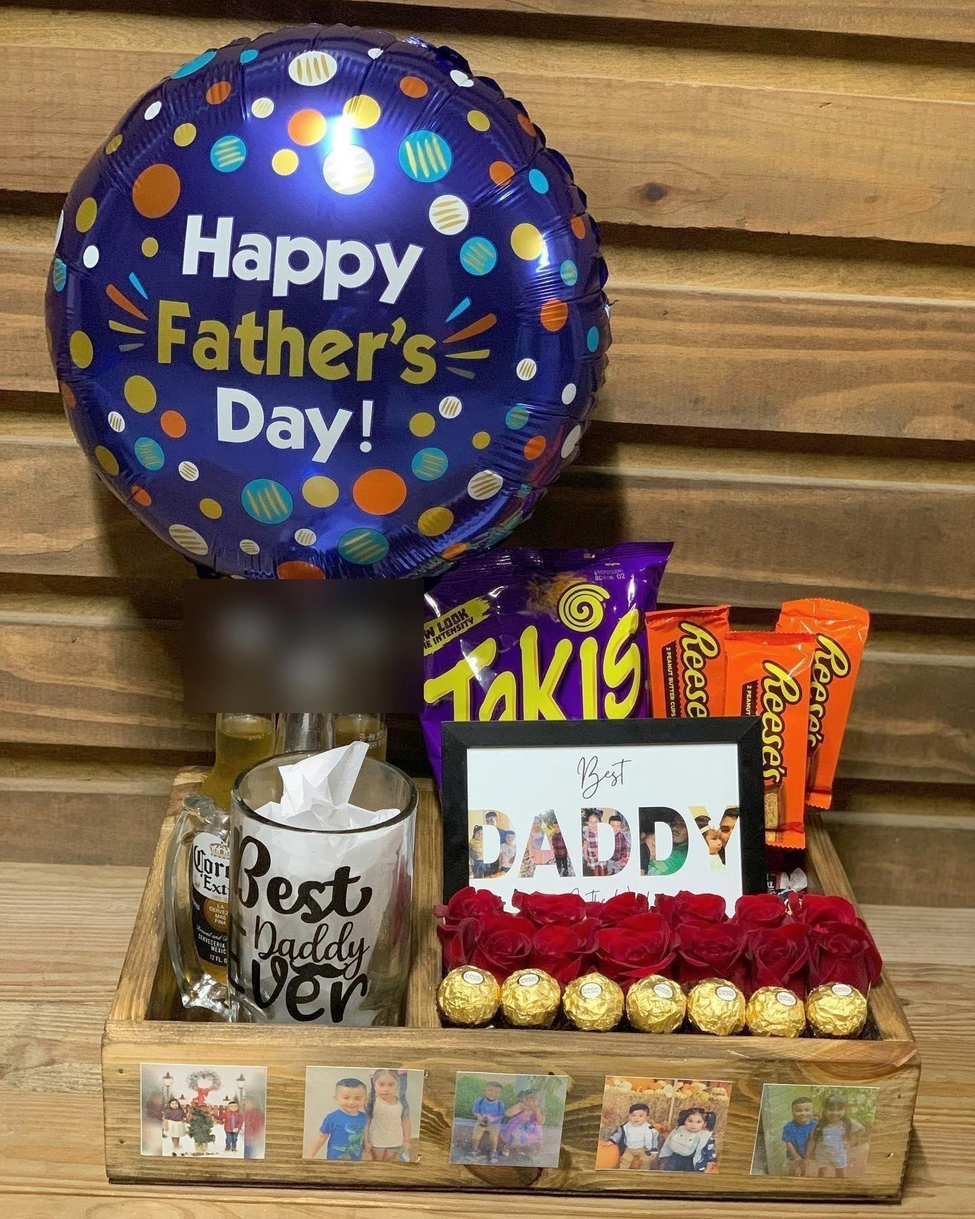glass-mug: (153, 739, 422, 1045)
